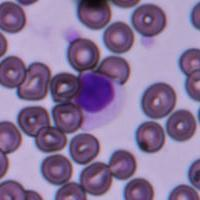L: (72, 70, 127, 128)
